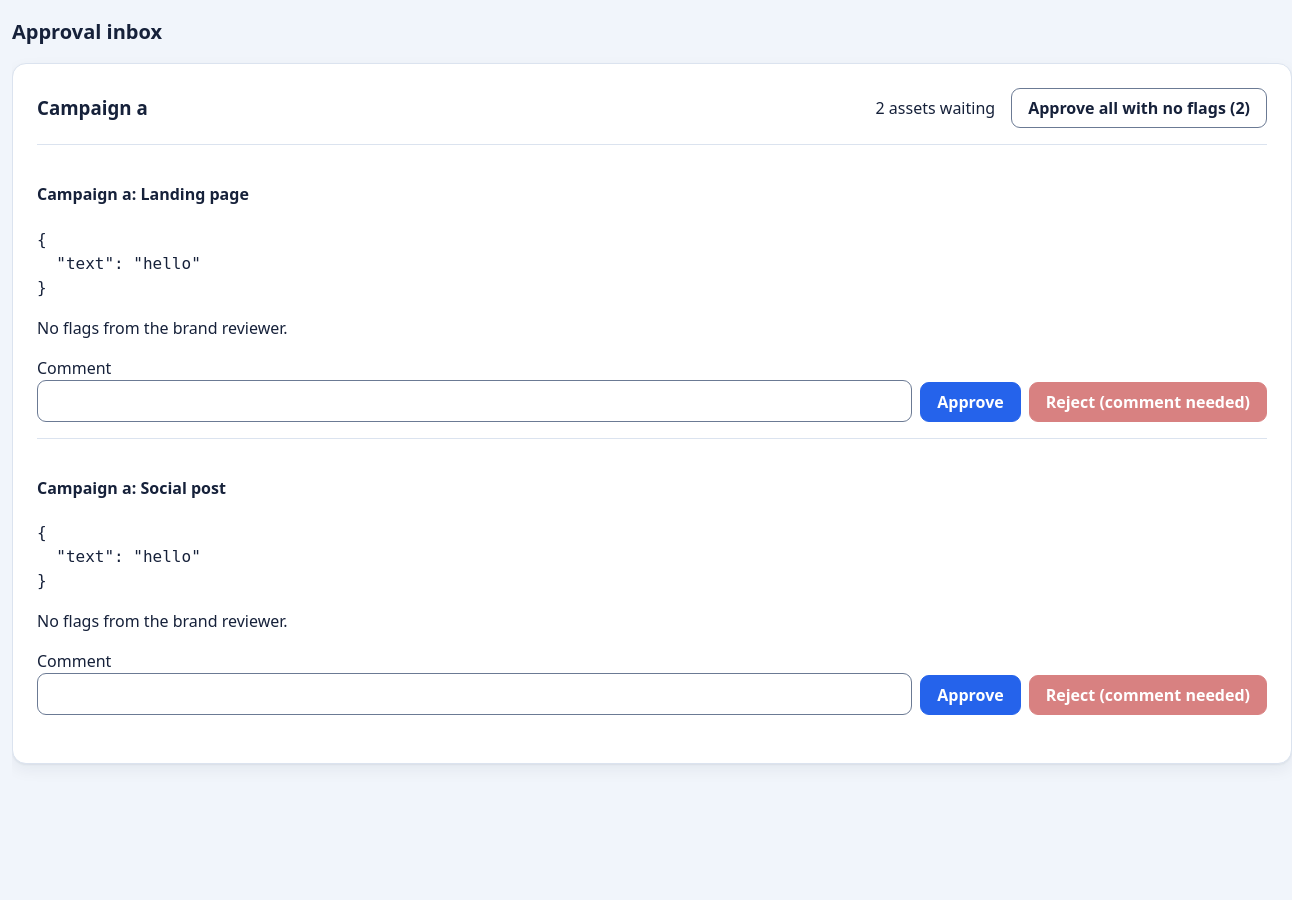
approving an asset with a comment sends the comment and takes it out of the inbox
Step 1. Type "Reads well" into the field labelled "Comment" below "Social post" → (475, 694), box [37,673,912,715]
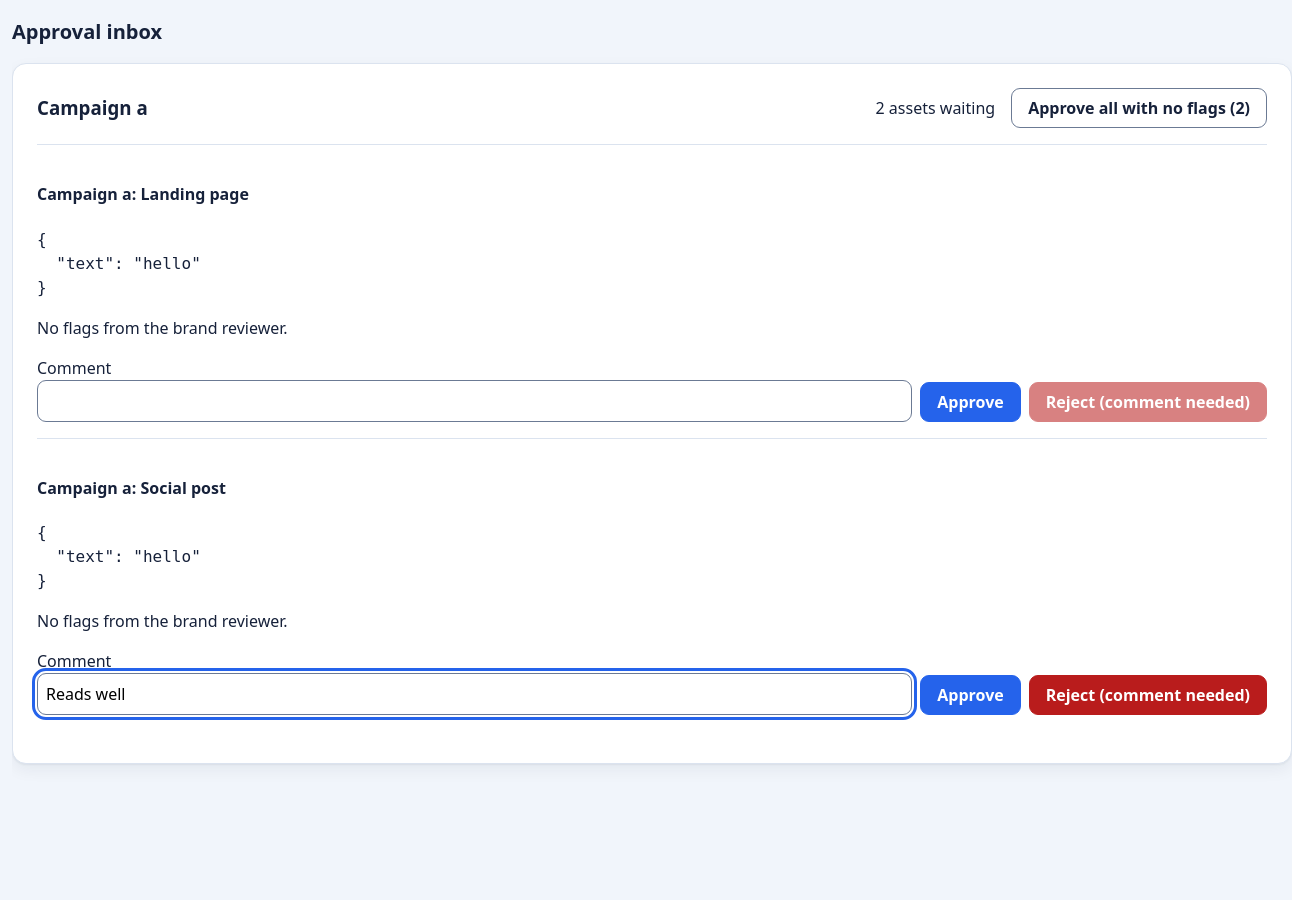
Step 2. Click the 2nd button "Approve" → (970, 695), box [920,675,1021,715]
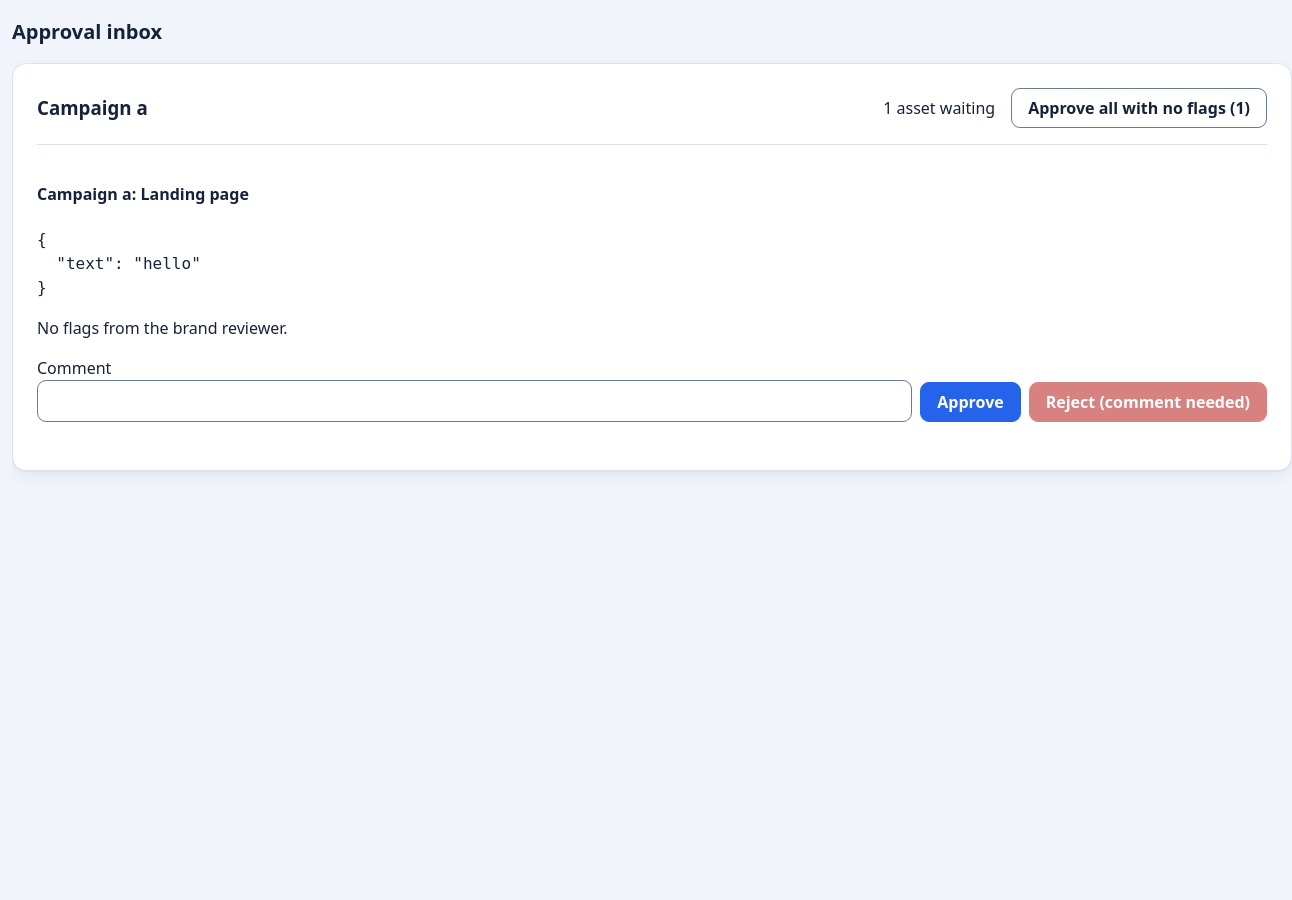
Expected: the element "Campaign a: Landing page" is shown, [37,144,1267,422]
Expected: the heading "Campaign a: Social post" is gone
